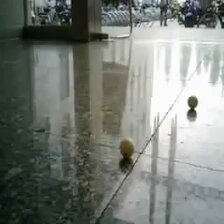w: (118, 138, 136, 159), (186, 94, 199, 109)
